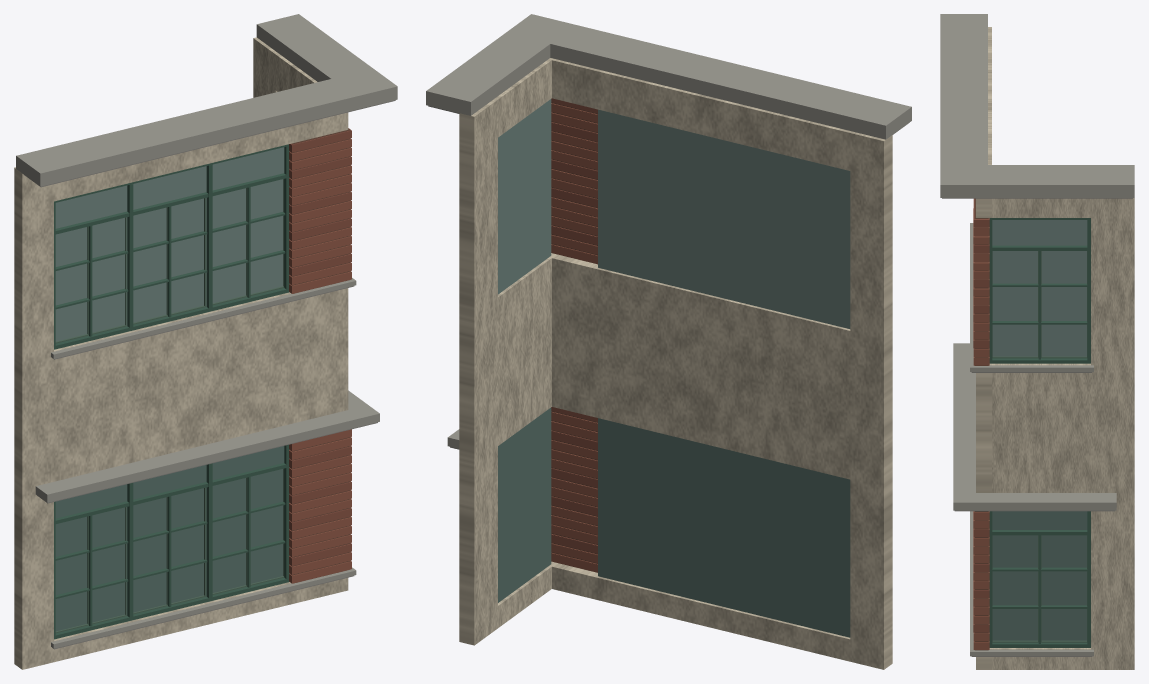
The model's file is jianguo-598-near.glb.
3 renders of one model, left to right at view 1: azimuth 30°, elevation 25°; view 2: azimuth 150°, elevation 25°; view 3: azimuth 270°, elevation 25°, orthographic. The views are drawn at different scales.
Parts seen in each view (by area): view 1: 建国西路598号花园住宅临街转角钢窗与赭砖窗垛; view 2: 建国西路598号花园住宅临街转角钢窗与赭砖窗垛; view 3: 建国西路598号花园住宅临街转角钢窗与赭砖窗垛.
Boxes of the visible parts, <box> form: 建国西路598号花园住宅临街转角钢窗与赭砖窗垛: <box>14,14,397,669</box>; 建国西路598号花园住宅临街转角钢窗与赭砖窗垛: <box>426,14,911,669</box>; 建国西路598号花园住宅临街转角钢窗与赭砖窗垛: <box>940,14,1134,669</box>.
Bounding box in the file's own units: 4.28 × 5.84 × 2.05.
10 materials, 1 textured.
